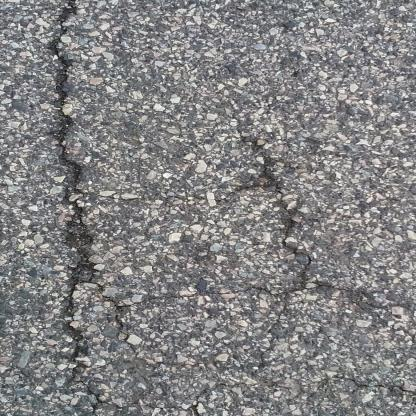Cracks: (53, 0, 110, 371)
